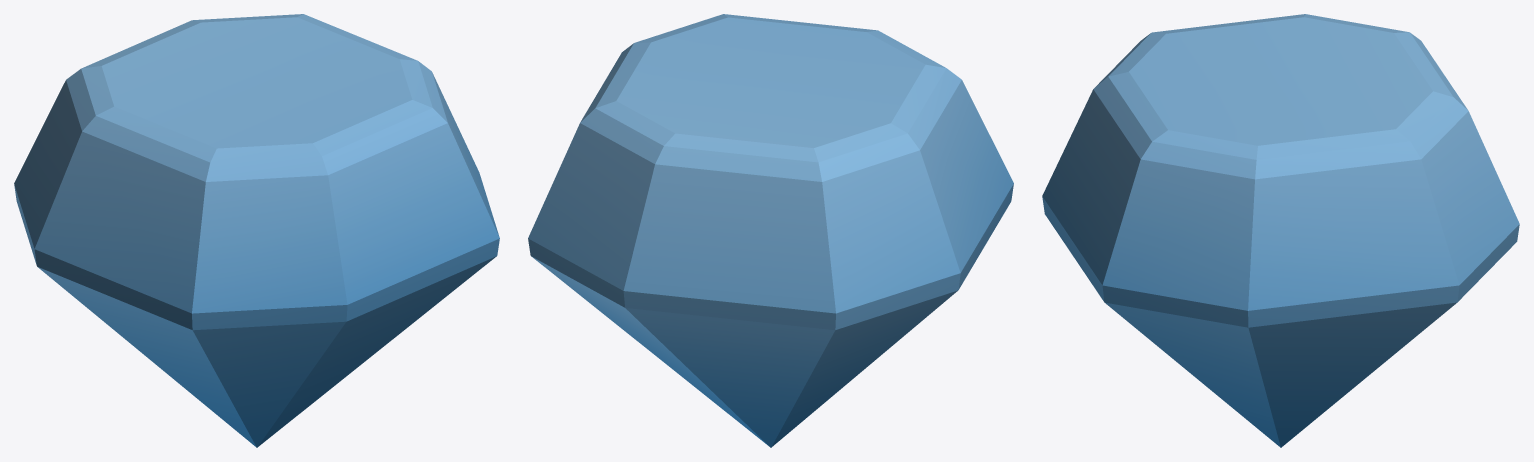
Rendered from Gem_1.fbx.
The picture shows the model from 3 angles, left to right: view 1: azimuth 30°, elevation 25°; view 2: azimuth 150°, elevation 25°; view 3: azimuth 270°, elevation 25°; orthographic projection.
Parts seen in each view (by area): view 1: Gem_1; view 2: Gem_1; view 3: Gem_1.
Boxes of the visible parts, x1=… form: Gem_1: x1=14, y1=14, x2=499, y2=447; Gem_1: x1=528, y1=14, x2=1013, y2=447; Gem_1: x1=1042, y1=14, x2=1519, y2=447.
Size of the model in its own units: 0.1807 by 0.153 by 0.1807.
